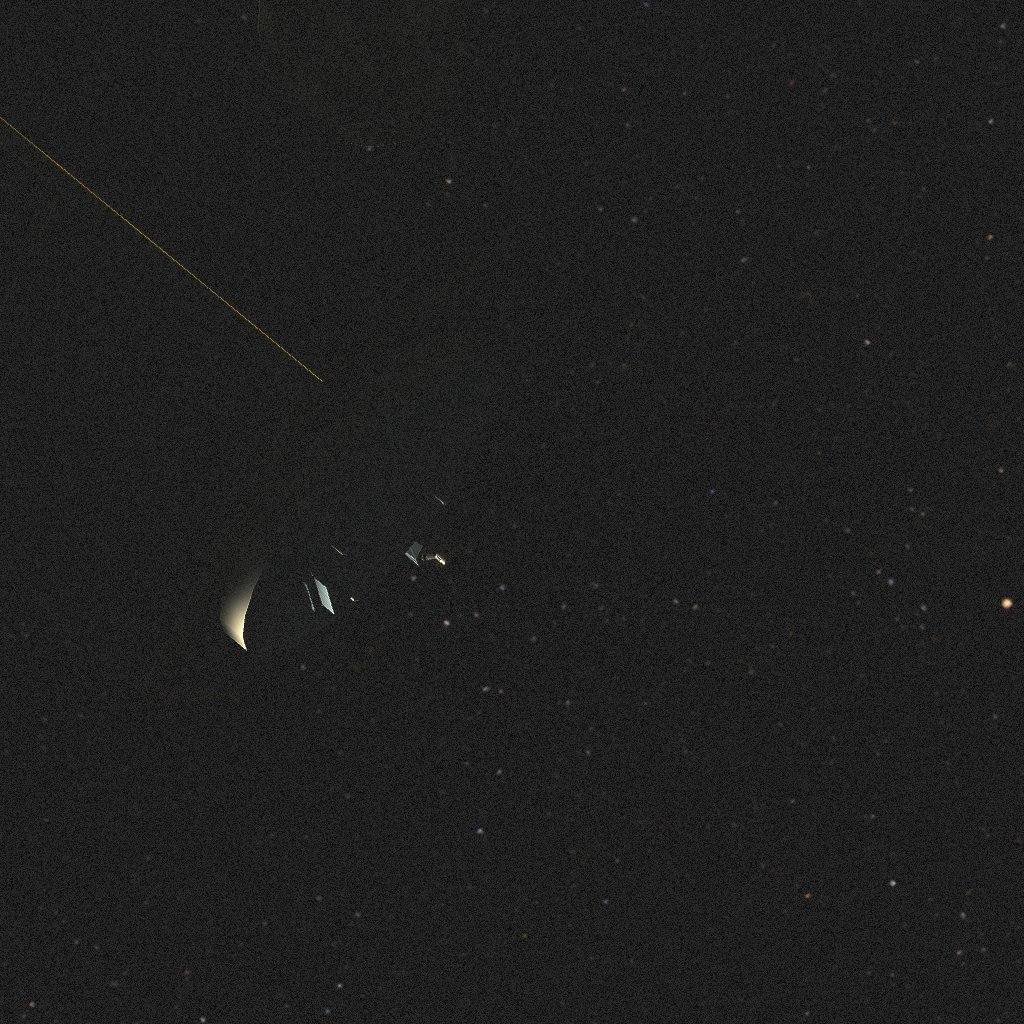cheops: (10, 14, 556, 676)
